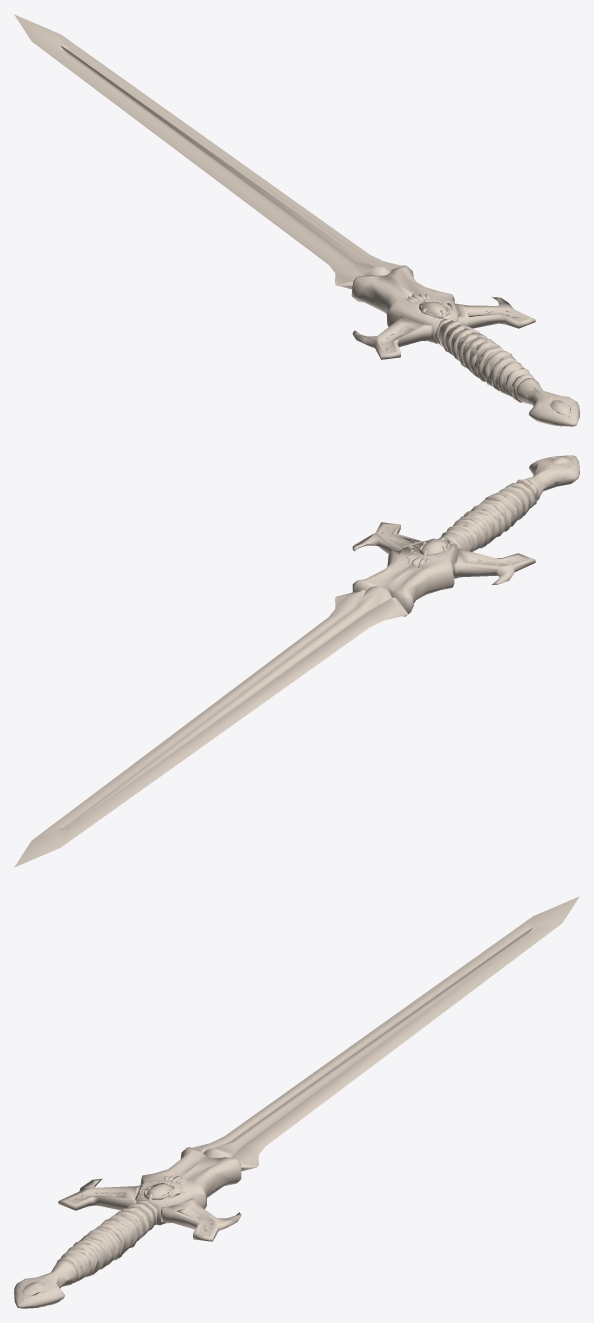
The model's file is sword_1.FBX.
3 renders of one model, top to bottom at view 1: azimuth 30°, elevation 25°; view 2: azimuth 150°, elevation 25°; view 3: azimuth 330°, elevation 25°, orthographic.
Visible parts, largest first — view 1: Cylinder01; view 2: Cylinder01; view 3: Cylinder01.
Boxes of the visible parts, x1,y1,x2,y2 form: Cylinder01: [14, 14, 579, 426]; Cylinder01: [14, 455, 579, 867]; Cylinder01: [14, 896, 579, 1308].
Bounding box in the file's own units: 52.39 × 11.65 × 330.
